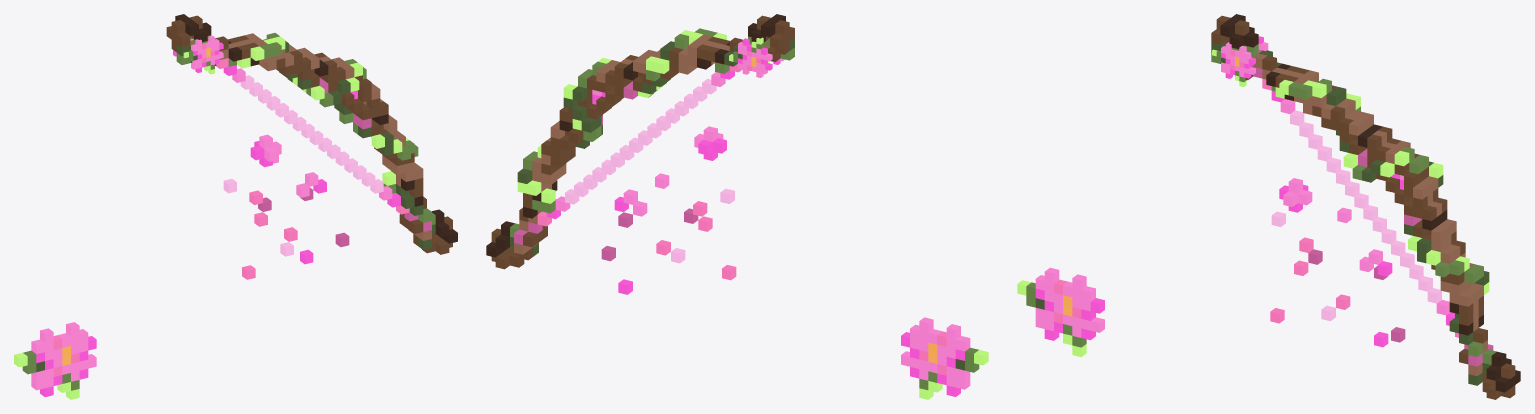
Rendered from bergenia_bow.glb.
3 views of the same model, side by side, from view 1: azimuth 30°, elevation 25°; view 2: azimuth 150°, elevation 25°; view 3: azimuth 330°, elevation 25° (orthographic). The views are drawn at different scales.
Parts seen in each view (by area): view 1: Cube.001, Cube.456, Cube.040, Cube.038, Cube.031; view 2: Cube.001, Cube.157, Cube.040, Cube.038, Cube.031; view 3: Cube.001, Cube.456, Cube.040, Cube.038, Cube.031.
Part boxes in pixels (box(x1,y1,x2,y2)): Cube.001: box(166, 14, 457, 254); Cube.456: box(183, 35, 223, 74); Cube.040: box(250, 134, 281, 167); Cube.038: box(296, 172, 326, 200); Cube.031: box(249, 190, 271, 226); Cube.001: box(486, 14, 794, 269); Cube.157: box(729, 37, 772, 77); Cube.040: box(694, 126, 726, 160); Cube.038: box(614, 189, 647, 227); Cube.031: box(684, 201, 712, 231); Cube.001: box(1211, 14, 1520, 399); Cube.456: box(1212, 42, 1255, 86); Cube.040: box(1279, 178, 1312, 212); Cube.038: box(1359, 249, 1392, 279); Cube.031: box(1294, 237, 1322, 275).
Bounding box in the file's own units: 52 × 37 × 6.
